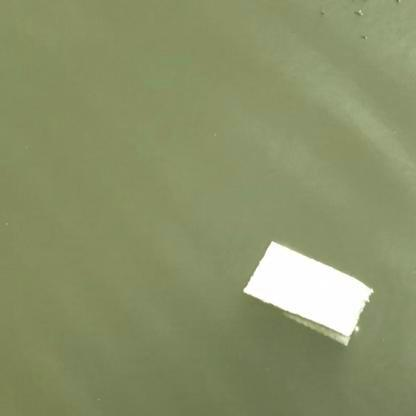Trash: (240, 239, 373, 343)
